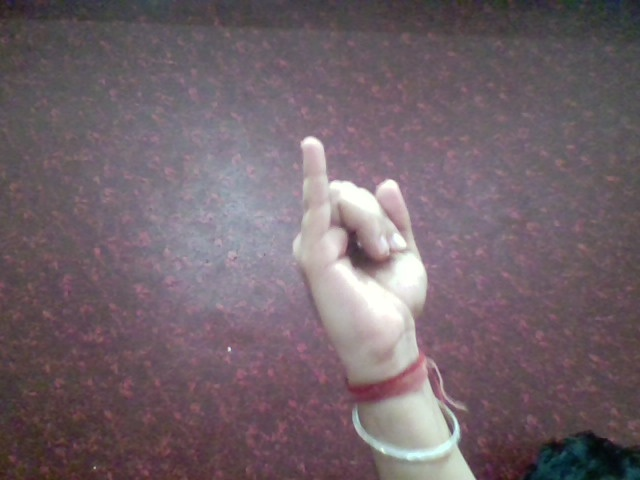j: (276, 131, 450, 359)
